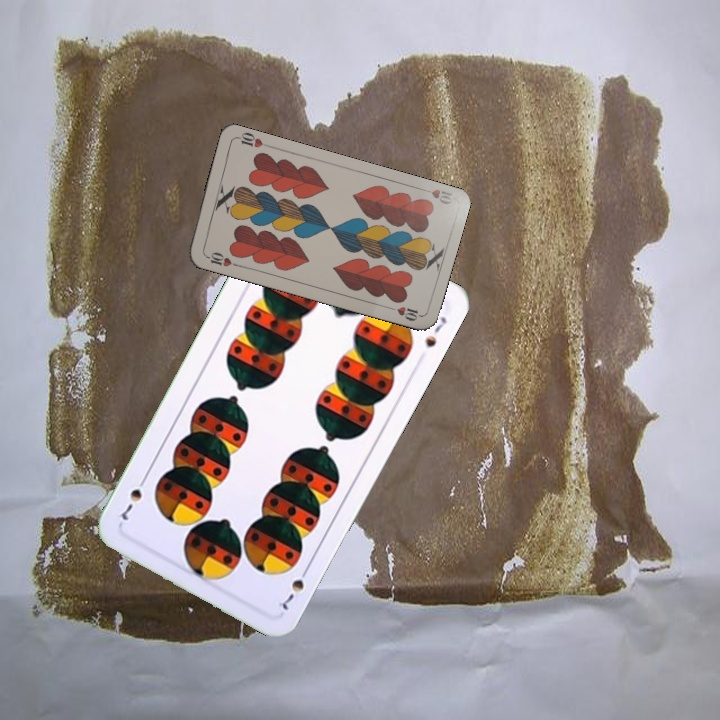H10: (416, 184, 455, 207), (201, 248, 240, 269)
S7: (274, 561, 313, 613)
